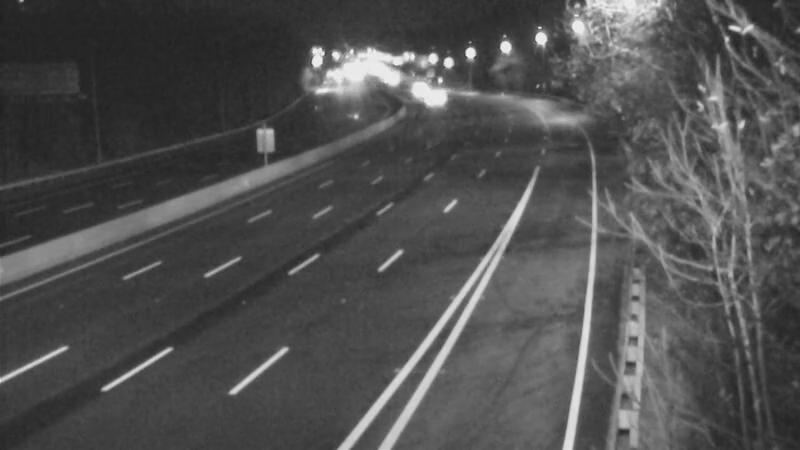vehicle: (391, 64, 441, 114), (413, 71, 463, 121)
